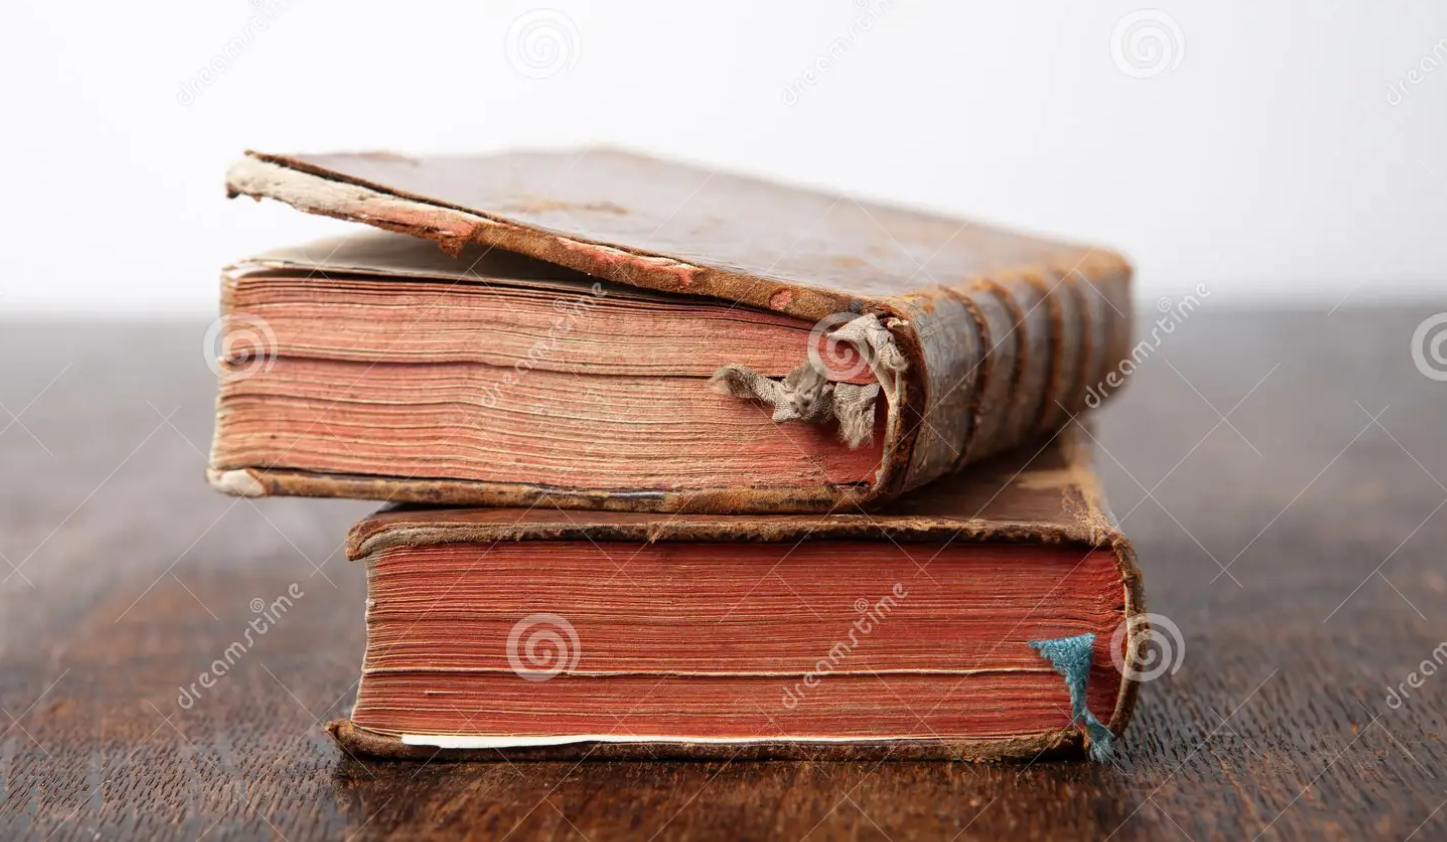book: (208, 133, 1133, 516), (352, 501, 1141, 770)
